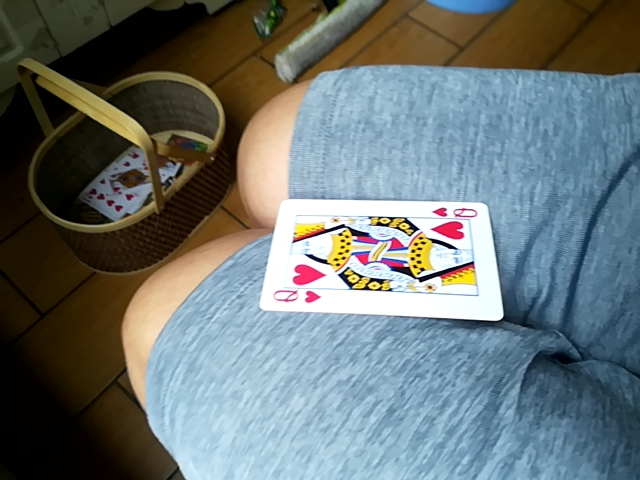hx q: (262, 199, 504, 319)
